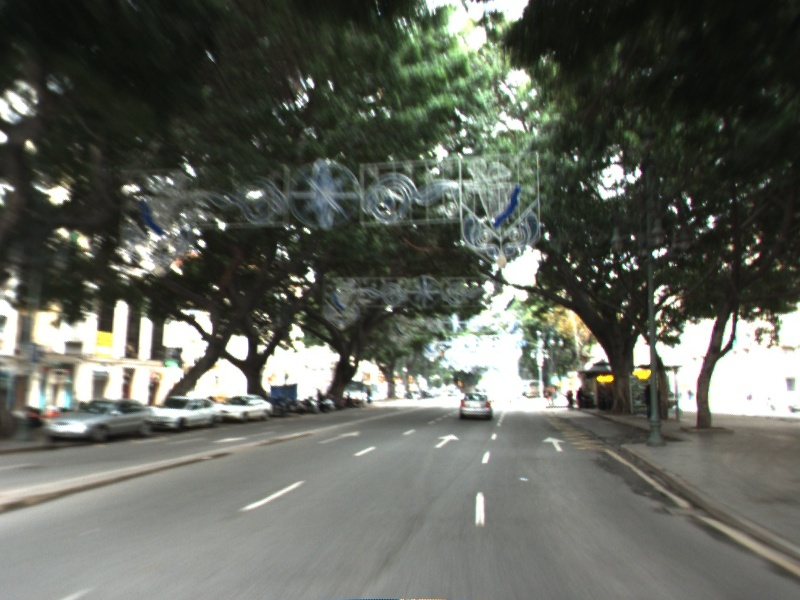STRAIGHT: (316, 429, 363, 446), (539, 434, 567, 453), (432, 432, 461, 450)
